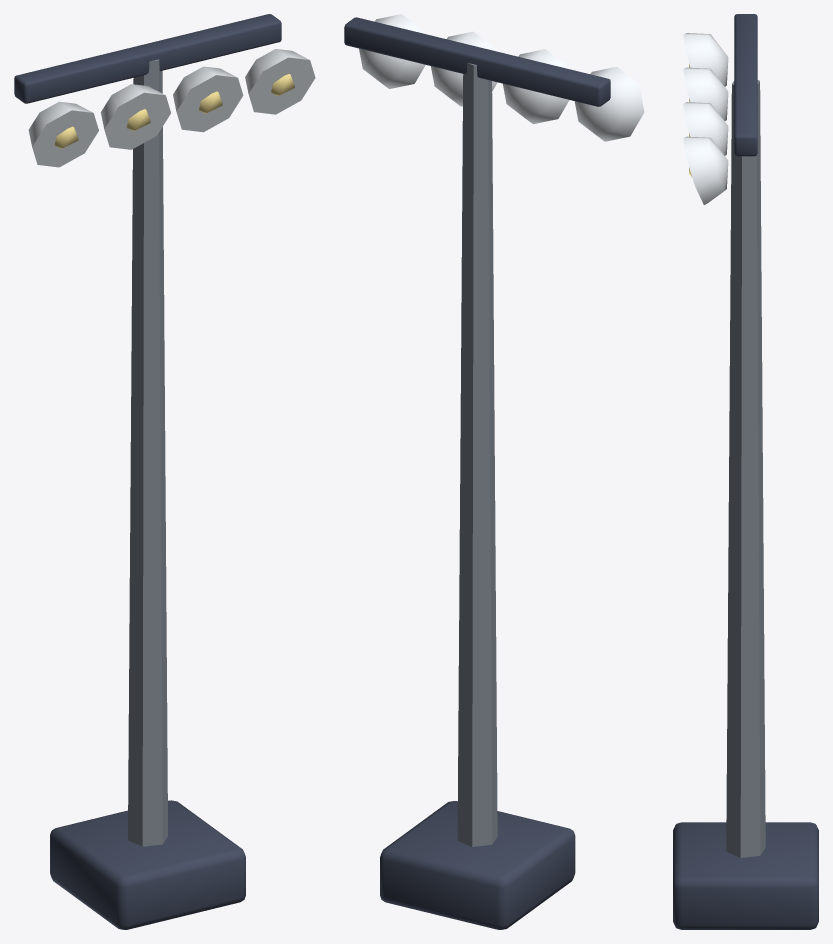
File: FloodMast.fbx
The picture shows the model from 3 angles, left to right: view 1: azimuth 30°, elevation 25°; view 2: azimuth 150°, elevation 25°; view 3: azimuth 270°, elevation 25°; orthographic projection.
Visible parts, largest first — view 1: FloodMast; view 2: FloodMast; view 3: FloodMast.
Boxes of the visible parts, <box> form: FloodMast: <box>14,14,315,929</box>; FloodMast: <box>344,14,644,929</box>; FloodMast: <box>673,14,818,929</box>.
Size of the model in its own units: 1.1 by 3.13 by 0.5.
2 materials, 2 textured.
